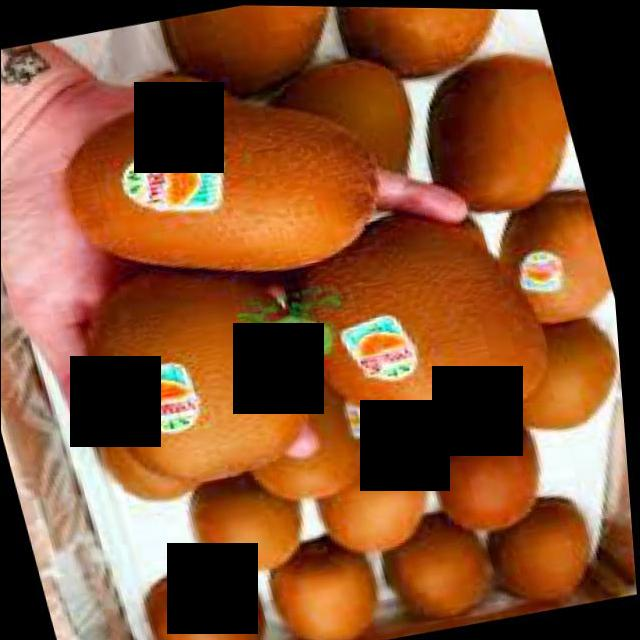kiwi: (55, 68, 405, 308), (285, 199, 568, 450), (75, 244, 335, 498), (256, 51, 448, 247), (411, 44, 593, 224), (171, 5, 364, 114), (490, 177, 622, 334), (481, 310, 628, 443), (305, 436, 445, 560), (346, 7, 549, 90), (181, 465, 323, 582), (426, 413, 557, 539), (373, 508, 506, 627), (480, 495, 609, 611), (264, 532, 389, 640), (140, 555, 276, 640)
